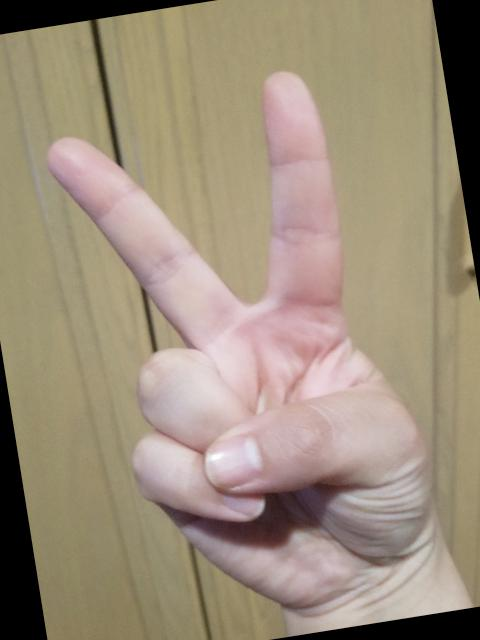V: (23, 46, 464, 640)
